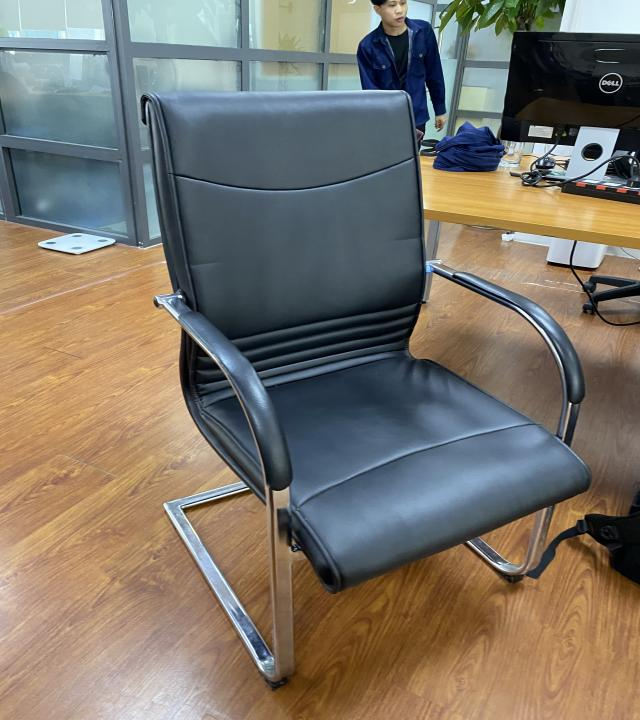SS_03: (136, 86, 595, 694)
